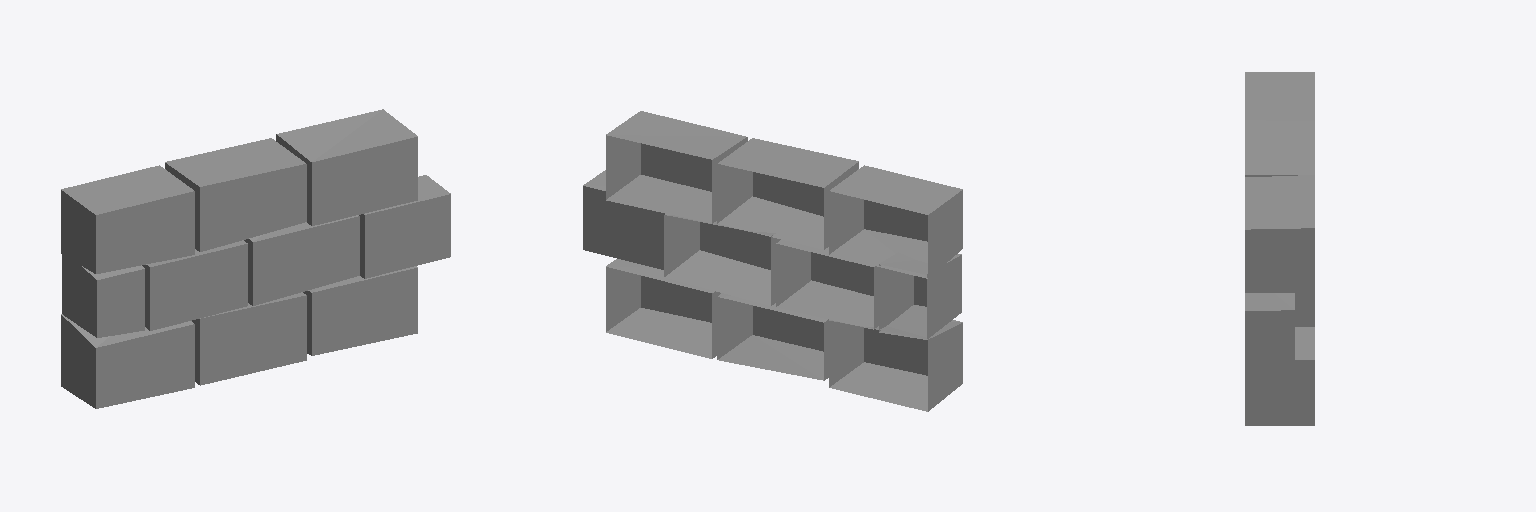
Rendered from Bricks_RightStraight.obj.
3 renders of one model, left to right at view 1: azimuth 30°, elevation 25°; view 2: azimuth 150°, elevation 25°; view 3: azimuth 270°, elevation 25°, orthographic.
Parts seen in each view (by area): view 1: Bricks_RightStraight_Cube.066; view 2: Bricks_RightStraight_Cube.066; view 3: Bricks_RightStraight_Cube.066.
Boxes of the visible parts, box(x1,y1,x2,y2) form: Bricks_RightStraight_Cube.066: box(61, 109, 450, 408); Bricks_RightStraight_Cube.066: box(583, 111, 962, 411); Bricks_RightStraight_Cube.066: box(1245, 72, 1314, 425).
Bounding box in the file's own units: 0.7945 × 0.4263 × 0.1364.